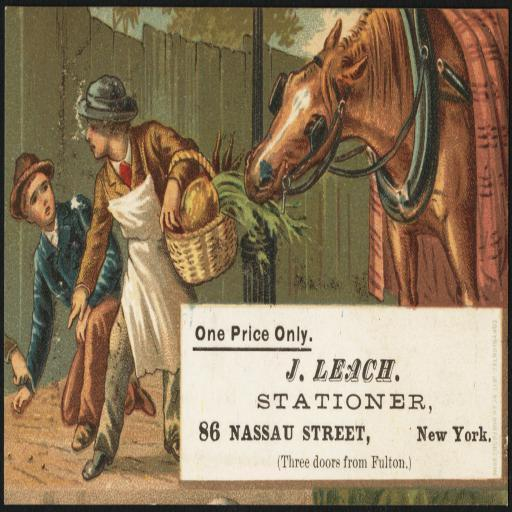horse: (244, 8, 484, 311)
